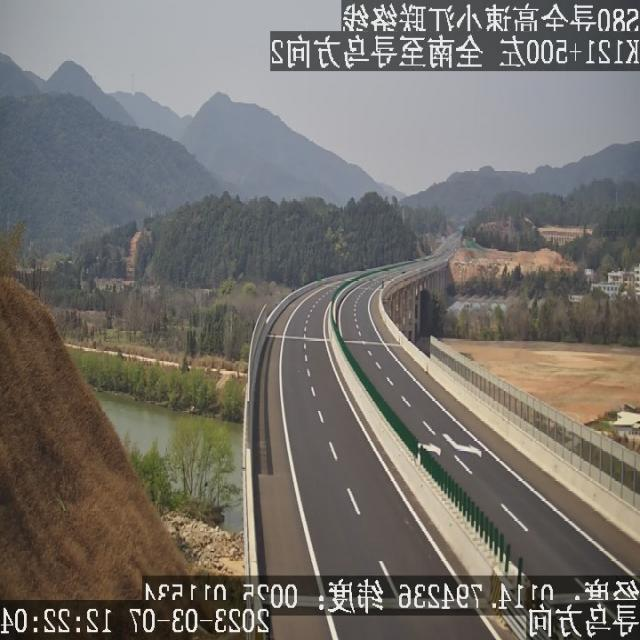point: (440, 217, 473, 250)
